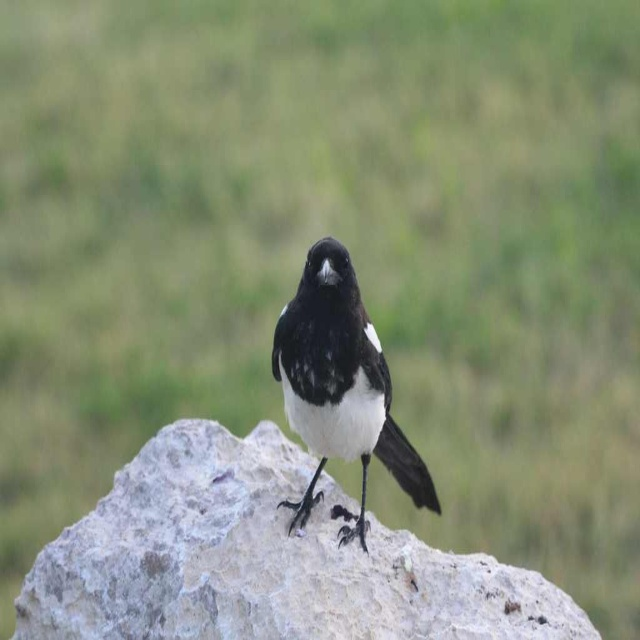Magpie: (272, 235, 442, 556)
